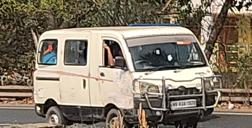Auto: (32, 24, 224, 128)
